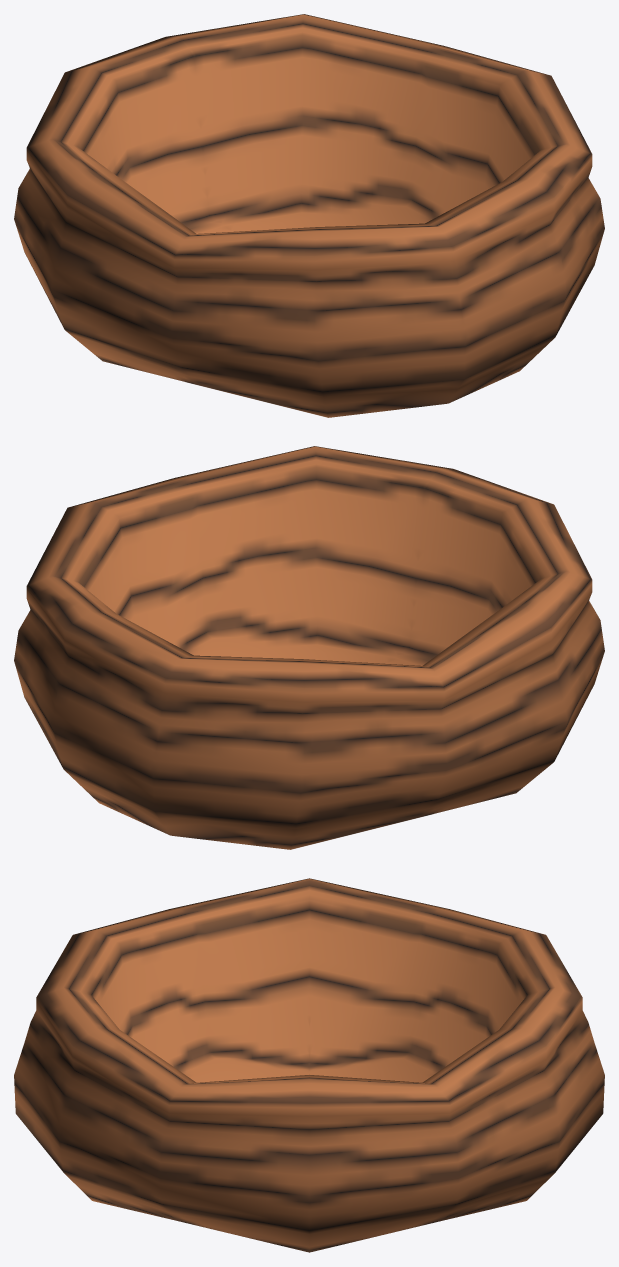
Rendered from prop_temple_basket1.fbx.
3 views of the same model, one above another, from view 1: azimuth 30°, elevation 25°; view 2: azimuth 150°, elevation 25°; view 3: azimuth 270°, elevation 25° (orthographic). The views are drawn at different scales.
Parts seen in each view (by area): view 1: basket1; view 2: basket1; view 3: basket1.
Part boxes in pixels (x1,y1,x2,y2): basket1: (14, 14, 604, 417); basket1: (14, 446, 604, 849); basket1: (14, 878, 604, 1252).
Size of the model in its own units: 0.7424 by 0.3038 by 0.7763.
Materials: 1 (1 with a texture image).
